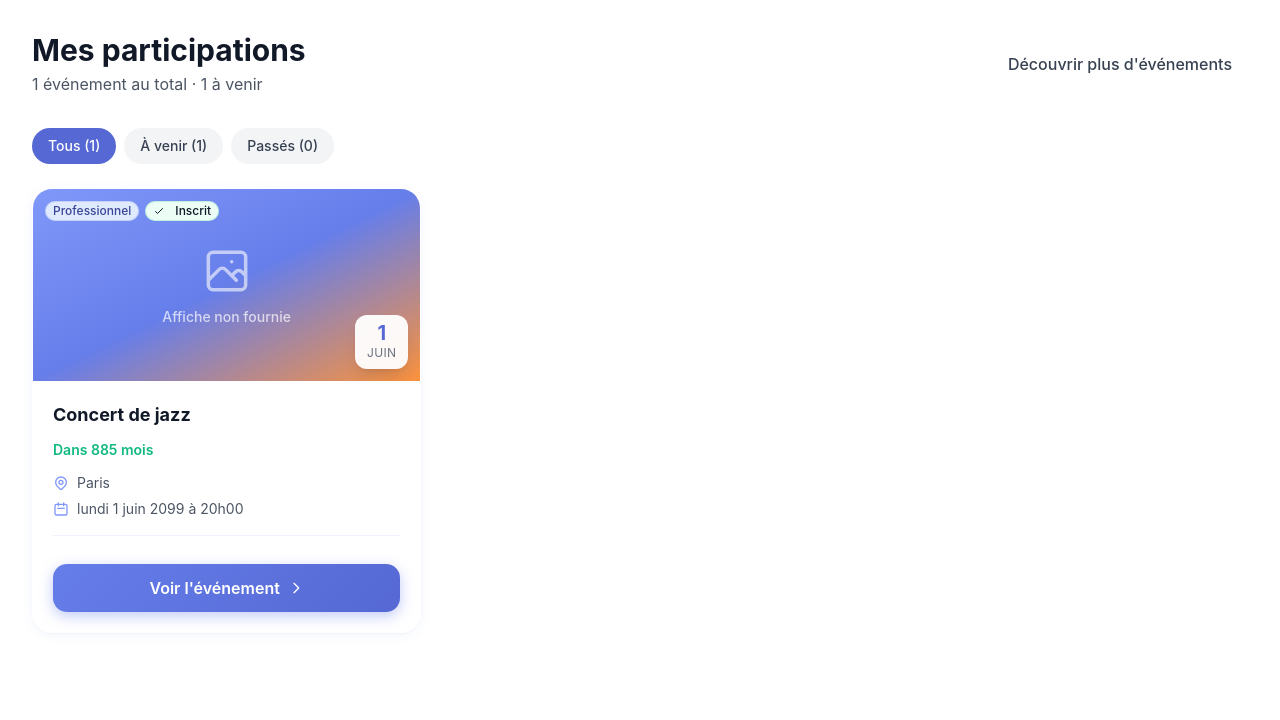
Test: MyParticipatedEventsPage › shows a message when no event matches the active filter
Click the button "Passés (0)" at (283, 146), box [231, 128, 334, 164]
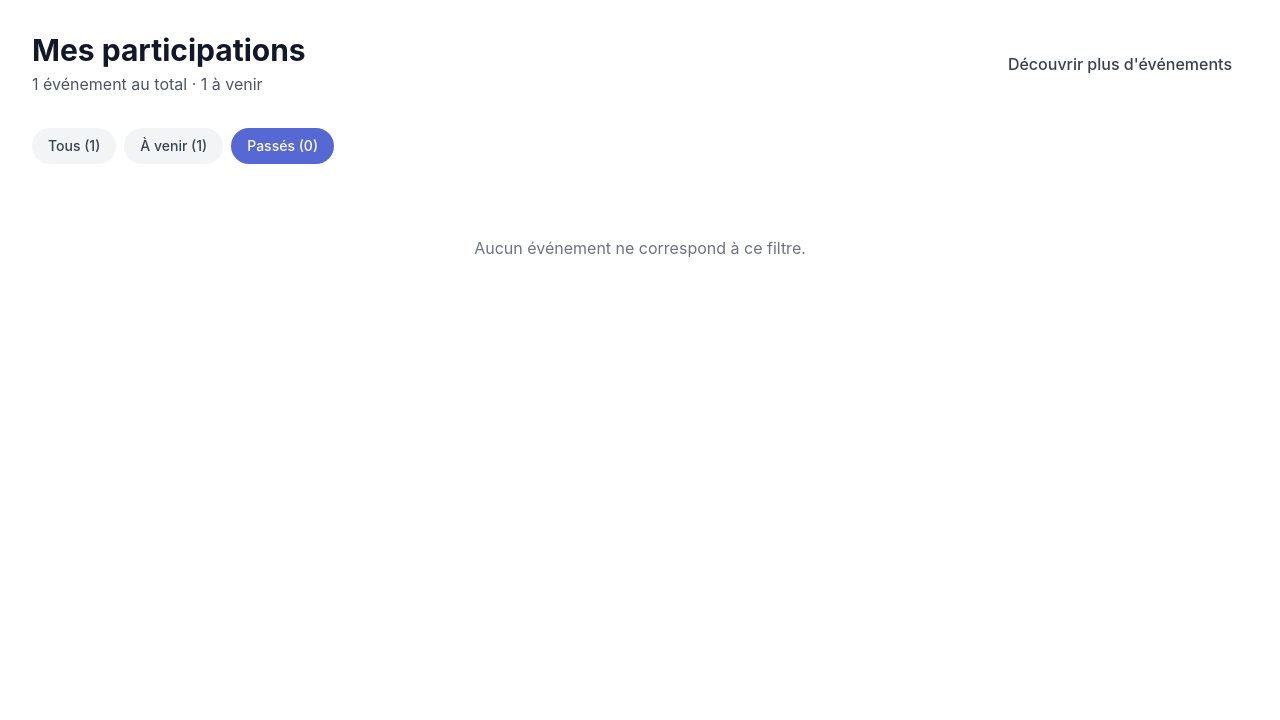
expect the text "Aucun événement ne correspond à ce filtre." is shown: met, box [474, 238, 806, 258]
